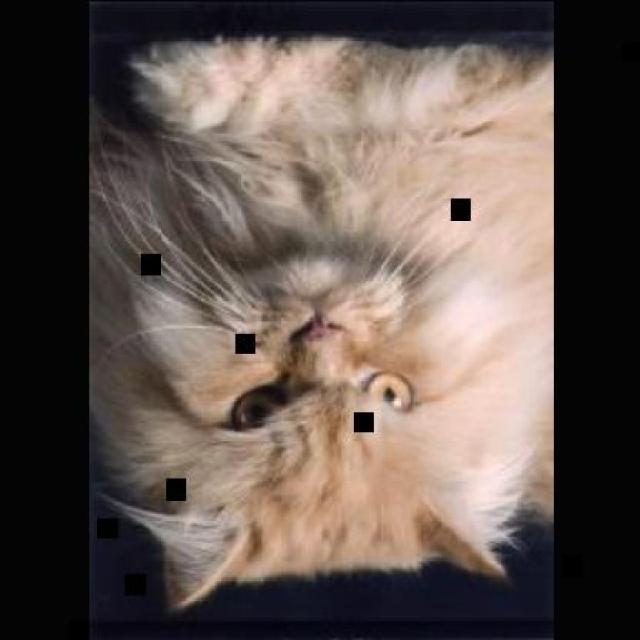unauthorized: (90, 32, 552, 611)
